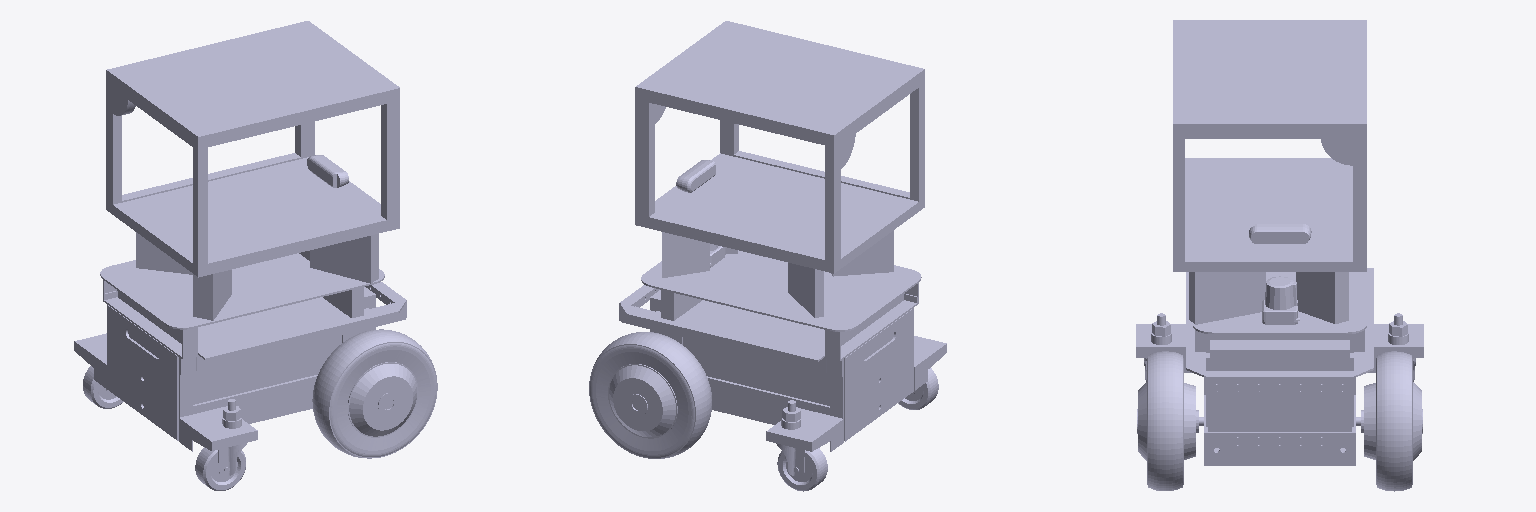
The robot description file, URDF, robot "krytn":
<?xml version="1.0" ?>
<robot name="krytn">
  <!--Generated by CROSS, a ROS Workbench for FreeCAD (https://github.com/galou/freecad.cross)-->
  <link name="base_footprint">
    <visual>
      <!--visual_base_footprint-->
      <origin rpy="0.0 -0.0 0.0" xyz="0.0 0.0 0.0"/>
      <geometry>
        <mesh filename="package://krytn_tray/meshes/krytn_tray_visual_base_footprint_.dae"/>
      </geometry>
    </visual>
    <collision>
      <!--collision_base_footprint-->
      <origin rpy="0.0 -0.0 0.0" xyz="0.0 0.0 0.0"/>
      <geometry>
        <mesh filename="package://krytn_tray/meshes/krytn_tray_collision_base_footprint_.dae"/>
      </geometry>
    </collision>
    <inertial>
      <mass value="0.0"/>
      <origin rpy="0.0 -0.0 0.0" xyz="0.0 0.0 0.0"/>
      <inertia ixx="0.0" ixy="0.0" ixz="0.0" iyy="0.0" iyz="0.0" izz="0.0"/>
    </inertial>
  </link>
  <link name="base_link">
    <visual>
      <!--visual_base_link/base_link_visual.-->
      <origin rpy="0.0 -0.0 0.0" xyz="-0.11 0.0 -0.029"/>
      <geometry>
        <mesh filename="package://krytn_tray/meshes/krytn_tray_magni_body.dae.dae"/>
      </geometry>
    </visual>
    <collision>
      <!--collision_base_link/base_link_collision.-->
      <origin rpy="0.0 -0.0 0.0" xyz="-0.11 0.0 0.051"/>
      <geometry>
        <box size="0.398 0.268 0.16"/>
      </geometry>
    </collision>
    <collision>
      <!--collision_base_link/base_link_collision001.-->
      <origin rpy="0.0 -0.0 0.0" xyz="-0.136 0.0 0.148"/>
      <geometry>
        <box size="0.375 0.268 0.034"/>
      </geometry>
    </collision>
    <collision>
      <!--collision_base_link/base_link_collision002.-->
      <origin rpy="0.0 -0.0 0.0" xyz="-0.279 0.169 0.006"/>
      <geometry>
        <box size="0.1 0.07 0.07"/>
      </geometry>
    </collision>
    <collision>
      <!--collision_base_link/base_link_collision003.-->
      <origin rpy="0.0 -0.0 0.0" xyz="-0.279 -0.169 0.006"/>
      <geometry>
        <box size="0.1 0.07 0.07"/>
      </geometry>
    </collision>
    <inertial>
      <mass value="10.0"/>
      <origin rpy="0.0 -0.0 0.0" xyz="-0.15 0.0 0.03"/>
      <inertia ixx="0.059450809553" ixy="0.0" ixz="0.0" iyy="0.150753273032" iyz="0.0" izz="0.17270409758500002"/>
    </inertial>
  </link>
  <link name="left_wheel">
    <visual>
      <!--visual_left_wheel/left_wheel_visual.-->
      <origin rpy="0.0 -1.5707963267948966 0.0" xyz="-1.57652e-17 0.0 -0.071"/>
      <geometry>
        <mesh filename="package://krytn_tray/meshes/krytn_tray_front_wheel.dae.dae"/>
      </geometry>
    </visual>
    <collision>
      <!--collision_left_wheel/left_wheel_collision.-->
      <origin rpy="0.0 -0.0 0.0" xyz="7.32747e-18 0.0 0.033"/>
      <geometry>
        <cylinder length="0.01" radius="0.1"/>
      </geometry>
    </collision>
    <inertial>
      <mass value="1.34"/>
      <origin rpy="-0.0 1.5707963267948966 0.0" xyz="0.0 0.0 0.0"/>
      <inertia ixx="0.003629165215000001" ixy="0.0" ixz="0.0" iyy="0.003629165215000001" iyz="0.0" izz="0.006700000000000001"/>
    </inertial>
  </link>
  <link name="right_wheel">
    <visual>
      <!--visual_right_wheel/right_wheel_visual.-->
      <origin rpy="-0.0 1.5707963267948961 0.0" xyz="1.57652e-17 0.0 0.071"/>
      <geometry>
        <mesh filename="package://krytn_tray/meshes/krytn_tray_front_wheel.dae.dae"/>
      </geometry>
    </visual>
    <collision>
      <!--collision_right_wheel/right_wheel_collision.-->
      <origin rpy="0.0 -0.0 0.0" xyz="-7.32747e-18 0.0 -0.033"/>
      <geometry>
        <cylinder length="0.01" radius="0.1"/>
      </geometry>
    </collision>
    <inertial>
      <mass value="1.34"/>
      <origin rpy="-0.0 1.5707963267948966 0.0" xyz="0.0 0.0 0.0"/>
      <inertia ixx="0.003629165215000001" ixy="0.0" ixz="0.0" iyy="0.003629165215000001" iyz="0.0" izz="0.006700000000000001"/>
    </inertial>
  </link>
  <link name="left_caster_wheel">
    <visual>
      <!--visual_left_caster_wheel/left_caster_wheel_visual.-->
      <origin rpy="0.0 -0.0 3.141592653589793" xyz="-0.25 0.169 0.0"/>
      <geometry>
        <mesh filename="package://krytn_tray/meshes/krytn_tray_caster_wheel.dae.dae"/>
      </geometry>
    </visual>
    <collision>
      <!--collision_left_caster_wheel/left_caster_wheel_collision.-->
      <geometry>
        <sphere radius="0.04"/>
      </geometry>
    </collision>
    <inertial>
      <mass value="0.0"/>
      <origin rpy="0.0 -0.0 0.0" xyz="0.0 0.0 0.0"/>
      <inertia ixx="0.0" ixy="0.0" ixz="0.0" iyy="0.0" iyz="0.0" izz="0.0"/>
    </inertial>
  </link>
  <link name="right_caster_wheel">
    <visual>
      <!--visual_right_caster_wheel/right_caster_wheel_visual.-->
      <origin rpy="0.0 -0.0 3.141592653589793" xyz="-0.25 -0.169 0.0"/>
      <geometry>
        <mesh filename="package://krytn_tray/meshes/krytn_tray_caster_wheel.dae.dae"/>
      </geometry>
    </visual>
    <collision>
      <!--collision_right_caster_wheel/right_caster_wheel_collision.-->
      <geometry>
        <sphere radius="0.04"/>
      </geometry>
    </collision>
    <inertial>
      <mass value="0.0"/>
      <origin rpy="0.0 -0.0 0.0" xyz="0.0 0.0 0.0"/>
      <inertia ixx="0.0" ixy="0.0" ixz="0.0" iyy="0.0" iyz="0.0" izz="0.0"/>
    </inertial>
  </link>
  <link name="realsense_link">
    <visual>
      <!--visual_realsense_link/realsense_link_visual.-->
      <origin rpy="0.0 -0.0 1.5707963267948966" xyz="0.0 0.0 0.0"/>
      <geometry>
        <mesh filename="package://krytn_tray/meshes/krytn_tray_realsense.dae.dae"/>
      </geometry>
    </visual>
    <collision>
      <!--collision_realsense_link/realsense_link_collision.-->
      <origin rpy="0.0 -0.0 1.5707963267948966" xyz="0.0 0.0 0.0"/>
      <geometry>
        <mesh filename="package://krytn_tray/meshes/krytn_tray_realsense.dae.dae"/>
      </geometry>
    </collision>
    <inertial>
      <mass value="0.06"/>
      <origin rpy="0.0 -0.0 0.0" xyz="-0.15 0.0 0.03"/>
      <inertia ixx="5.04999798e-05" ixy="0.0" ixz="0.0" iyy="2.499999e-06" iyz="0.0" izz="5.19999792e-05"/>
    </inertial>
  </link>
  <link name="lidar_2d_link">
    <visual>
      <!--visual_lidar_2d_link/lidar_2d_link_visual.-->
      <origin rpy="0.0 -0.0 0.0" xyz="0.0 0.0 0.0"/>
      <geometry>
        <mesh filename="package://krytn_tray/meshes/krytn_tray_lidar_2d_v1.dae.dae"/>
      </geometry>
    </visual>
    <collision>
      <!--collision_lidar_2d_link/lidar_2d_link_collision.-->
      <origin rpy="0.0 -0.0 0.0" xyz="0.0 0.0 0.0"/>
      <geometry>
        <box size="0.05001062 0.05001062 0.035003035"/>
      </geometry>
    </collision>
    <collision>
      <!--collision_lidar_2d_link/lidar_2d_link_collision001.-->
      <origin rpy="0.0 -0.0 0.0" xyz="0.0 0.0 0.0"/>
      <geometry>
        <cylinder length="0.035003035" radius="0.02"/>
      </geometry>
    </collision>
    <inertial>
      <mass value="0.13"/>
      <origin rpy="0.0 -0.0 0.0" xyz="-0.15 0.0 0.03"/>
      <inertia ixx="0.0027180822461000003" ixy="0.0" ixz="0.0" iyy="3.6833318600000004e-05" iyz="0.0" izz="0.0027354155725000003"/>
    </inertial>
  </link>
  <link name="Link">
    <visual>
      <!--Part/Body.-->
      <origin rpy="0.0 -0.0 0.0" xyz="0.0 0.0 0.0"/>
      <geometry>
        <mesh filename="package://krytn_tray/meshes/krytn_tray_Krytn_tray.dae"/>
      </geometry>
    </visual>
    <collision>
      <!--Part/Body.-->
      <origin rpy="0.0 -0.0 0.0" xyz="0.0 0.0 0.0"/>
      <geometry>
        <mesh filename="package://krytn_tray/meshes/krytn_tray_Krytn_tray.dae"/>
      </geometry>
    </collision>
    <inertial>
      <mass value="0.0"/>
      <origin rpy="0.0 -0.0 0.0" xyz="0.0 0.0 0.0"/>
      <inertia ixx="0.0" ixy="0.0" ixz="0.0" iyy="0.0" iyz="0.0" izz="0.0"/>
    </inertial>
  </link>
  <joint name="base_footprint_joint" type="fixed">
    <parent link="base_footprint"/>
    <child link="base_link"/>
    <origin rpy="0.0 -0.0 0.0" xyz="0.0 0.0 0.1"/>
  </joint>
  <joint name="left_wheel_joint" type="continuous">
    <parent link="base_link"/>
    <child link="left_wheel"/>
    <origin rpy="-1.5707963267948966 1.5707963267948963 0.0" xyz="0.0 0.163 0.0"/>
    <axis xyz="0 0 1"/>
  </joint>
  <joint name="right_wheel_joint" type="continuous">
    <parent link="base_link"/>
    <child link="right_wheel"/>
    <origin rpy="-1.5707963267948966 1.5707963267948963 0.0" xyz="0.0 -0.163 0.0"/>
    <axis xyz="0 0 1"/>
  </joint>
  <joint name="left_caster_wheel_joint" type="fixed">
    <parent link="base_link"/>
    <child link="left_caster_wheel"/>
    <origin rpy="0.0 -0.0 0.0" xyz="0.0 0.0 0.0"/>
  </joint>
  <joint name="right_caster_wheel_joint" type="fixed">
    <parent link="base_link"/>
    <child link="right_caster_wheel"/>
    <origin rpy="0.0 -0.0 0.0" xyz="0.0 0.0 0.0"/>
  </joint>
  <joint name="realsense_joint" type="fixed">
    <parent link="base_link"/>
    <child link="realsense_link"/>
    <origin rpy="0.0 -0.0 0.0" xyz="0.0 0.0 0.3"/>
  </joint>
  <joint name="lidar_2d_joint" type="fixed">
    <parent link="base_link"/>
    <child link="lidar_2d_link"/>
    <origin rpy="0.0 -0.0 0.0" xyz="0.0 0.0 0.15"/>
  </joint>
  <joint name="Joint" type="fixed">
    <parent link="base_link"/>
    <child link="Link"/>
    <origin rpy="0.0 -0.0 1.5707963267948966" xyz="-0.3 0.0 0.165"/>
  </joint>
</robot>

--- What the picture shows (computed from the rendered views, not written in the file) ---
Views: 3 orthographic renders of the robot side by side, from view 1: azimuth 30°, elevation 25°; view 2: azimuth 150°, elevation 25°; view 3: azimuth 270°, elevation 25°.
Model krytn with 9 links and 8 joints (2 continuous, 6 fixed), rooted at base_footprint, posed every joint at zero.
Visible links, largest first — view 1: Link, base_link, right_wheel, right_caster_wheel, realsense_link, left_caster_wheel; view 2: Link, base_link, left_wheel, left_caster_wheel, realsense_link, right_caster_wheel; view 3: Link, base_link, left_wheel, right_wheel, lidar_2d_link, realsense_link, left_caster_wheel, right_caster_wheel.
Link boxes in pixels (left/top/right/bottom): Link: left=106, top=21, right=399, bottom=320; base_link: left=74, top=253, right=406, bottom=451; right_wheel: left=312, top=329, right=437, bottom=458; right_caster_wheel: left=195, top=399, right=246, bottom=490; realsense_link: left=307, top=155, right=348, bottom=187; left_caster_wheel: left=83, top=366, right=123, bottom=408; Link: left=635, top=21, right=924, bottom=317; base_link: left=619, top=250, right=946, bottom=451; left_wheel: left=589, top=332, right=711, bottom=458; left_caster_wheel: left=776, top=400, right=827, bottom=491; realsense_link: left=676, top=160, right=715, bottom=192; right_caster_wheel: left=898, top=368, right=938, bottom=409; Link: left=1173, top=20, right=1366, bottom=324; base_link: left=1136, top=268, right=1423, bottom=465; left_wheel: left=1356, top=351, right=1422, bottom=491; right_wheel: left=1137, top=351, right=1203, bottom=490; lidar_2d_link: left=1262, top=276, right=1299, bottom=324; realsense_link: left=1249, top=224, right=1311, bottom=243; left_caster_wheel: left=1388, top=313, right=1415, bottom=381; right_caster_wheel: left=1144, top=313, right=1171, bottom=381.
Bounding box of the posed robot: 0.423 × 0.412 × 0.591 m (x, y, z).
8 mesh visuals loaded from 7 distinct referenced files (6 Collada DAE); not drawn: 1 (file found but could not be loaded).
